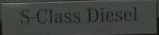character: (35, 7, 49, 24), (18, 7, 30, 25), (87, 6, 99, 23), (105, 9, 114, 23), (62, 11, 72, 23), (72, 11, 81, 24), (114, 9, 122, 23), (123, 10, 131, 22), (99, 7, 105, 22), (54, 12, 62, 23), (132, 5, 137, 22), (49, 7, 53, 26)
